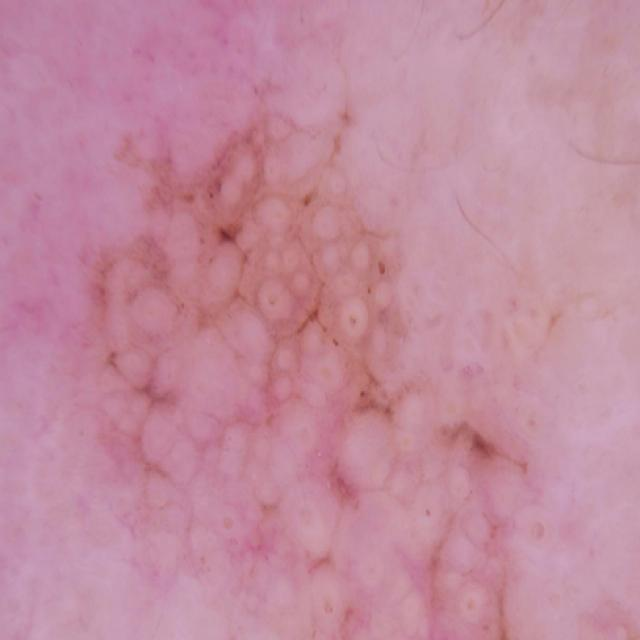Melanoma: (89, 102, 587, 640)
